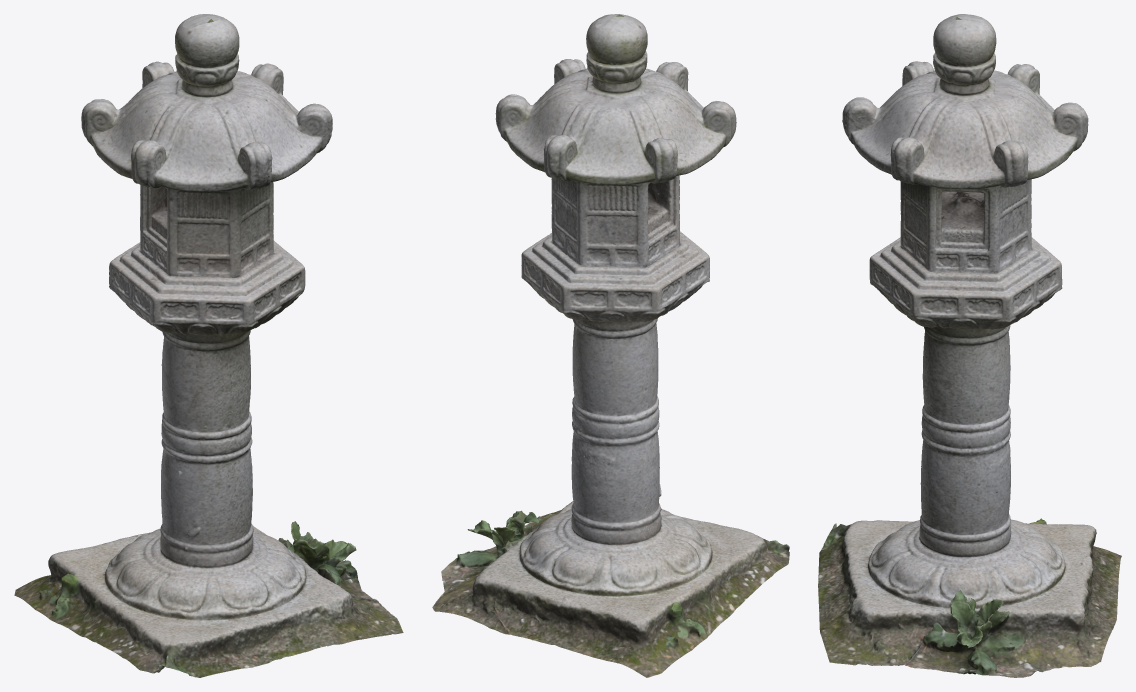
File: japanese_stone_lantern_scan_1.glb
3 renders of one model, left to right at view 1: azimuth 30°, elevation 25°; view 2: azimuth 150°, elevation 25°; view 3: azimuth 270°, elevation 25°, orthographic. The views are drawn at different scales.
Visible parts, largest first — view 1: Object_3, Object_4; view 2: Object_4, Object_3; view 3: Object_4, Object_3.
Boxes of the visible parts, left/top/right/bottom form: Object_3: left=14, top=14, right=403, bottom=677; Object_4: left=30, top=63, right=364, bottom=672; Object_4: left=460, top=59, right=771, bottom=663; Object_3: left=432, top=14, right=789, bottom=677; Object_4: left=818, top=62, right=1120, bottom=643; Object_3: left=818, top=14, right=1121, bottom=677.
Bounding box in the file's own units: 0.8633 × 1.76 × 0.8206.
1 material, 1 textured.
